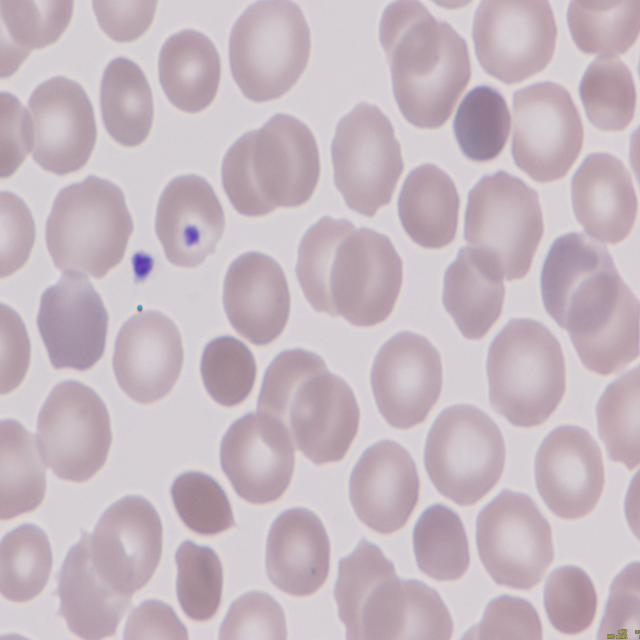Platelets: (129, 248, 156, 286)
RBC: (460, 168, 550, 289), (40, 175, 136, 285), (324, 101, 406, 221), (424, 402, 511, 514), (386, 17, 470, 132), (482, 315, 566, 428), (222, 0, 312, 105), (32, 378, 115, 488), (470, 488, 556, 594), (20, 73, 101, 181), (531, 419, 612, 524), (326, 226, 406, 332), (505, 80, 585, 186), (218, 408, 300, 511), (562, 274, 640, 381), (147, 168, 226, 272), (90, 489, 168, 594), (108, 308, 188, 410), (344, 438, 422, 540), (36, 274, 111, 380), (468, 0, 560, 85), (371, 331, 446, 434), (216, 124, 291, 223), (220, 250, 294, 350), (565, 150, 639, 250), (258, 504, 334, 600), (252, 106, 324, 206), (292, 368, 361, 468), (152, 25, 224, 117), (440, 245, 509, 339), (94, 52, 160, 150), (396, 158, 462, 250), (358, 577, 454, 640), (0, 416, 55, 524), (591, 358, 640, 470), (407, 500, 472, 582), (0, 519, 58, 608), (575, 59, 639, 138), (169, 468, 235, 544), (559, 0, 640, 60), (540, 560, 600, 638), (0, 0, 77, 59), (85, 0, 163, 50), (214, 589, 290, 640), (0, 185, 39, 282), (474, 589, 548, 640), (0, 292, 32, 406), (0, 83, 35, 184), (123, 595, 192, 640), (618, 452, 640, 556), (630, 111, 640, 222), (408, 0, 488, 11), (0, 627, 55, 640)
Spherocyte: (450, 82, 512, 166), (198, 332, 262, 408)
